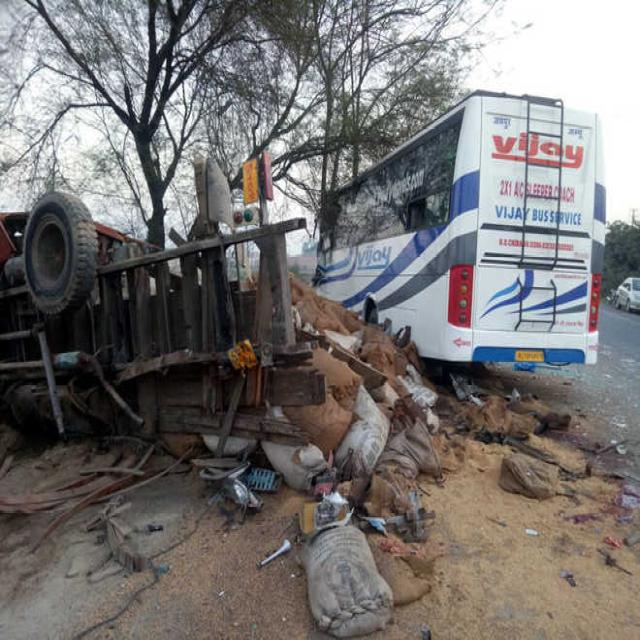bus: (315, 92, 605, 362)
